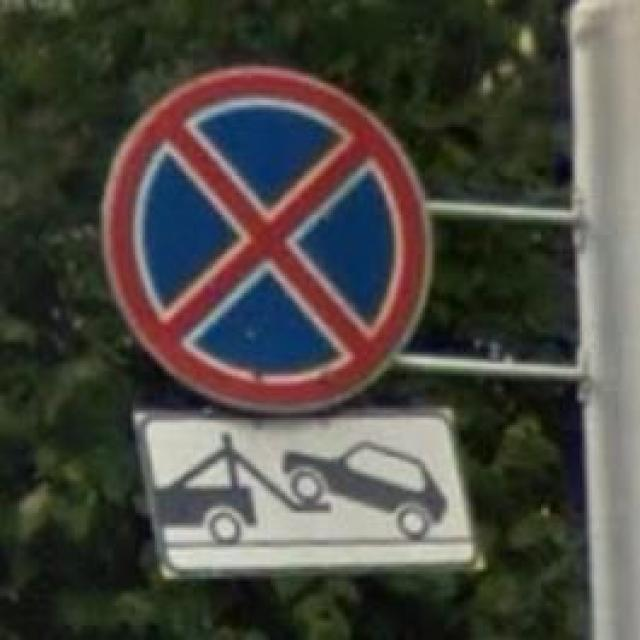Zakaz zatrzymywania sie: (97, 61, 432, 420)
